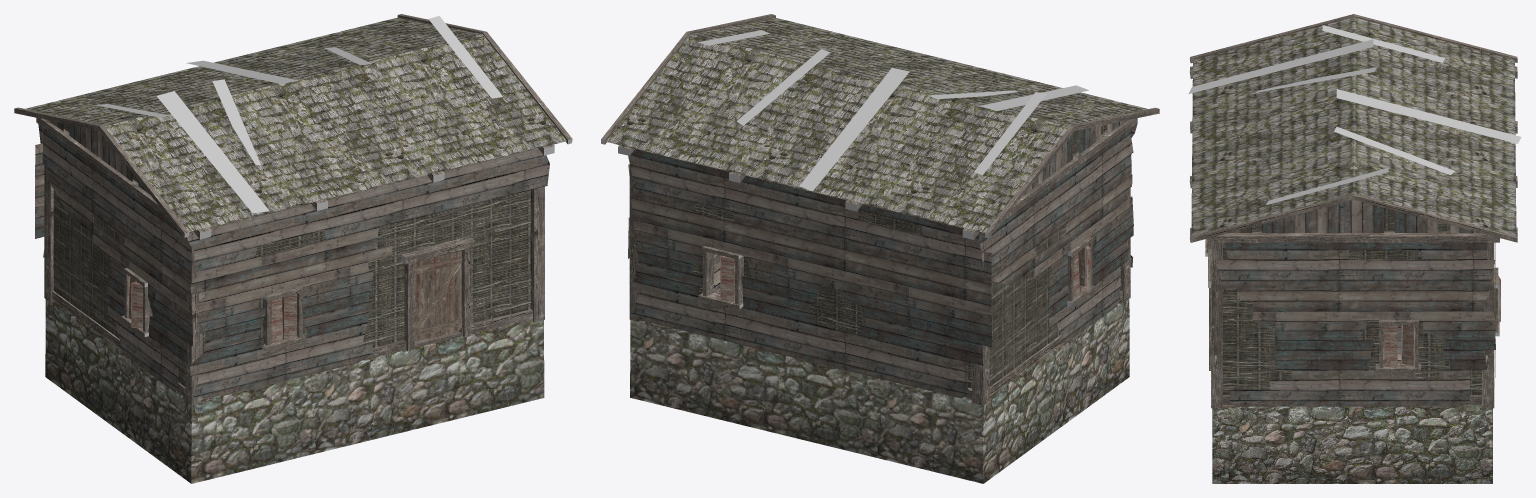
The model's file is House9_LOD2.fbx.
The picture shows the model from 3 angles, left to right: view 1: azimuth 30°, elevation 25°; view 2: azimuth 150°, elevation 25°; view 3: azimuth 270°, elevation 25°; orthographic projection. The views are drawn at different scales.
Parts seen in each view (by area): view 1: Base, Roof, Floor, Doors; view 2: Base, Roof, Floor; view 3: Roof, Base, Floor.
Boxes of the visible parts, x1,y1,x2,y2 form: Base: (35,124,549,405); Roof: (14,14,572,239); Floor: (45,285,544,483); Doors: (414,251,462,341); Base: (628,123,1137,405); Roof: (601,14,1159,239); Floor: (630,257,1129,483); Roof: (1188,14,1521,242); Base: (1205,239,1500,408); Floor: (1212,325,1492,483).
Size of the model in its own units: 10.67 by 8.36 by 8.27.
